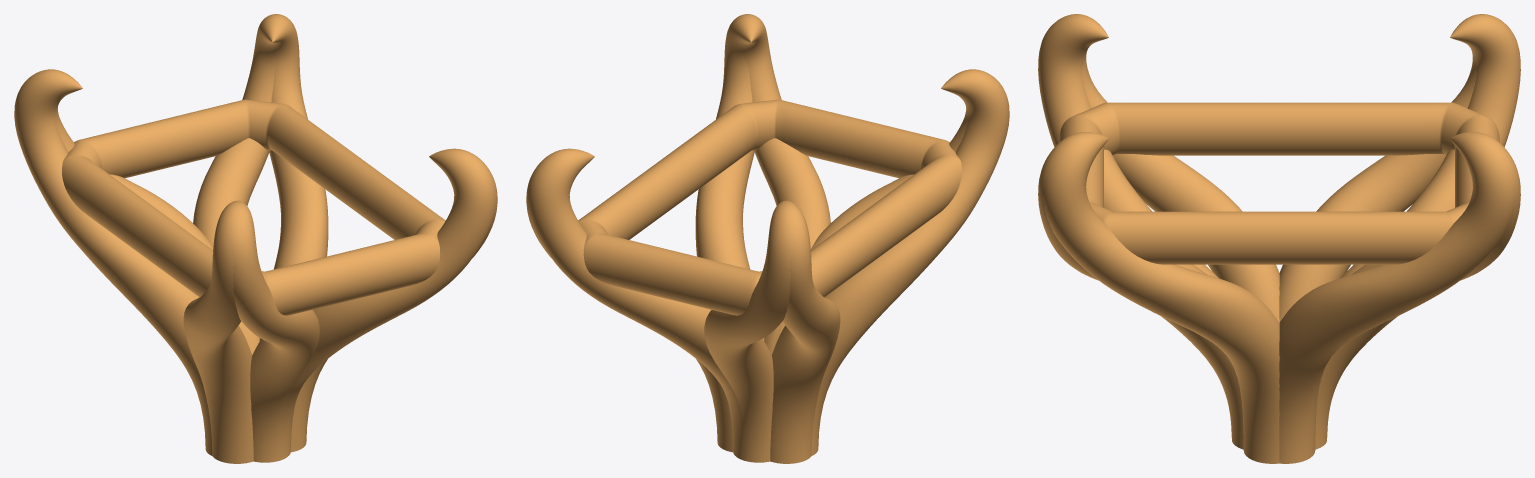
The model's file is EMERALD.glb.
3 renders of one model, left to right at view 1: azimuth 30°, elevation 25°; view 2: azimuth 150°, elevation 25°; view 3: azimuth 270°, elevation 25°, orthographic. The views are drawn at different scales.
Parts seen in each view (by area): view 1: HD-Tulip-Emerald-103dm.001; view 2: HD-Tulip-Emerald-103dm.001; view 3: HD-Tulip-Emerald-103dm.001.
Boxes of the visible parts, x1,y1,x2,y2 form: HD-Tulip-Emerald-103dm.001: (14, 14, 497, 463); HD-Tulip-Emerald-103dm.001: (526, 14, 1009, 463); HD-Tulip-Emerald-103dm.001: (1038, 14, 1520, 463).
Size of the model in its own units: 5.32 by 6.09 by 7.3.
